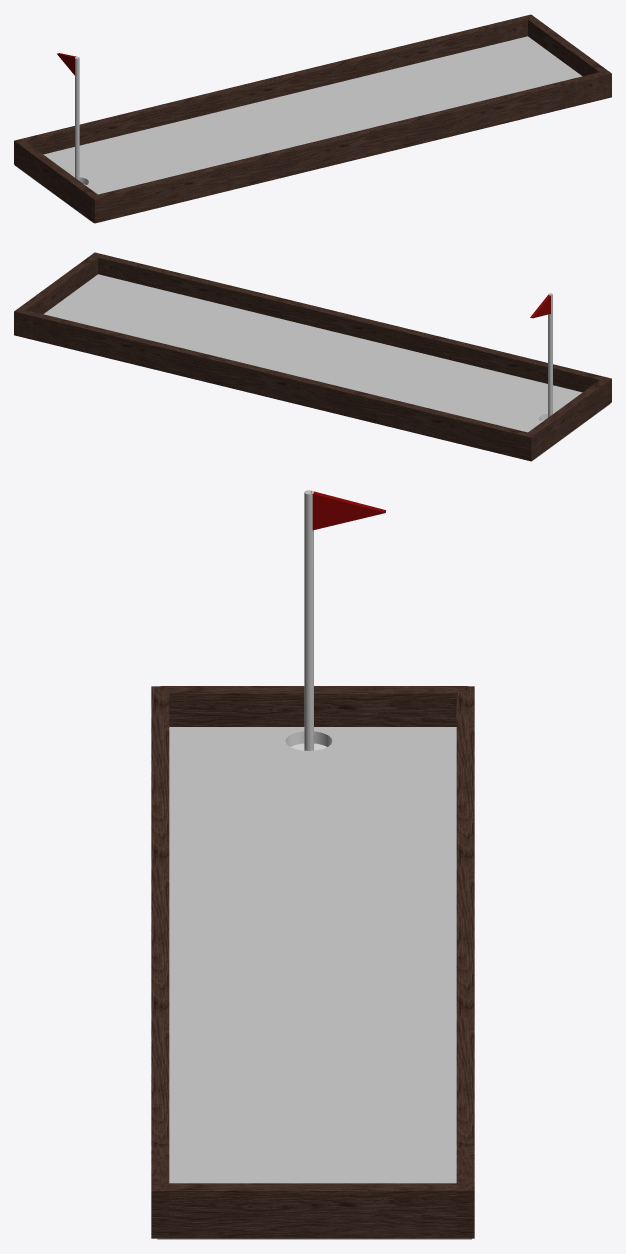
File: Hole2.fbx
3 renders of one model, top to bottom at view 1: azimuth 30°, elevation 25°; view 2: azimuth 150°, elevation 25°; view 3: azimuth 270°, elevation 25°, orthographic. The views are drawn at different scales.
Visible parts, largest first — view 1: pCube37; view 2: pCube37; view 3: pCube37.
Part boxes in pixels (x1=…): pCube37: x1=14, y1=14, x2=611, y2=223; pCube37: x1=14, y1=252, x2=611, y2=461; pCube37: x1=151, y1=490, x2=474, y2=1239.
Bounding box in the file's own units: 29.19 × 7.12 × 7.89.
